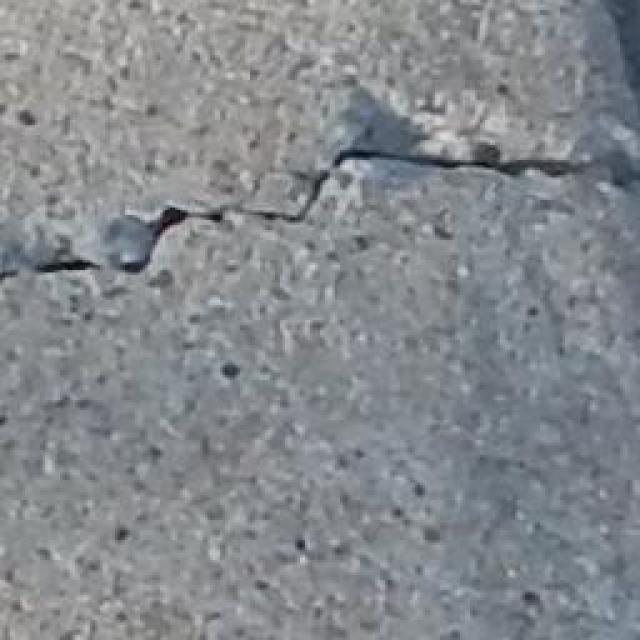concrete-crack: (6, 121, 639, 284)
